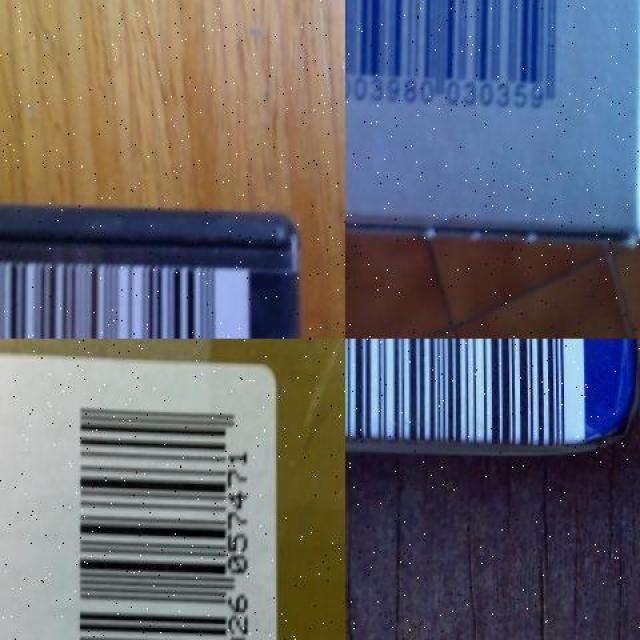Barcode: (65, 380, 271, 640), (345, 0, 576, 132), (345, 339, 599, 449), (0, 254, 249, 338)
